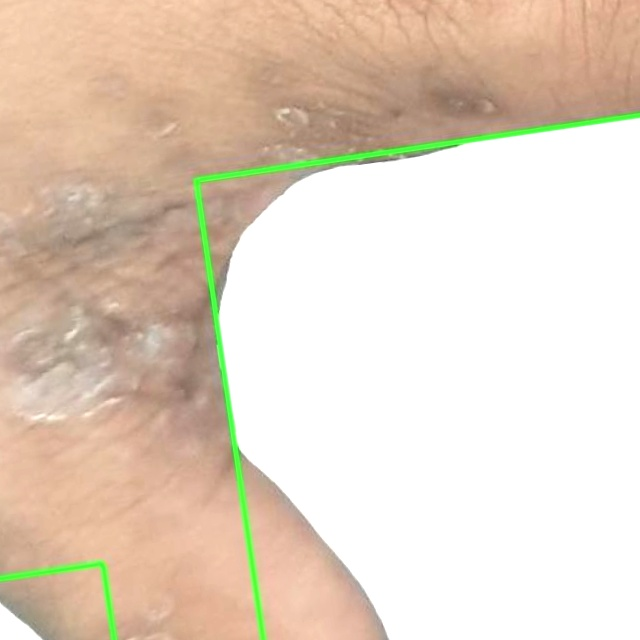Scabies: (0, 0, 639, 639), (195, 115, 639, 639)
